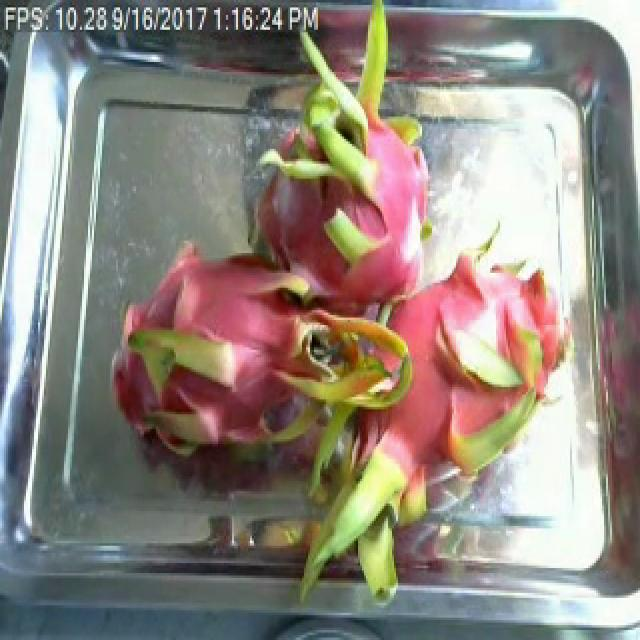Fruit: (298, 3, 386, 99)
